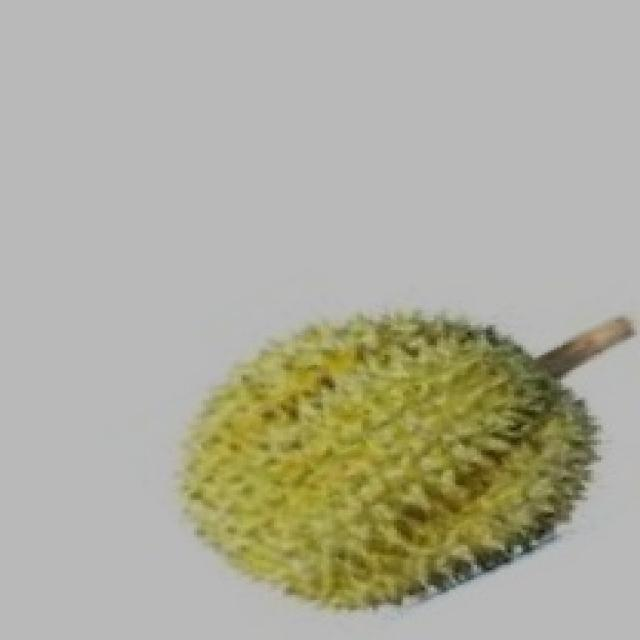fruit: (240, 270, 637, 638)
